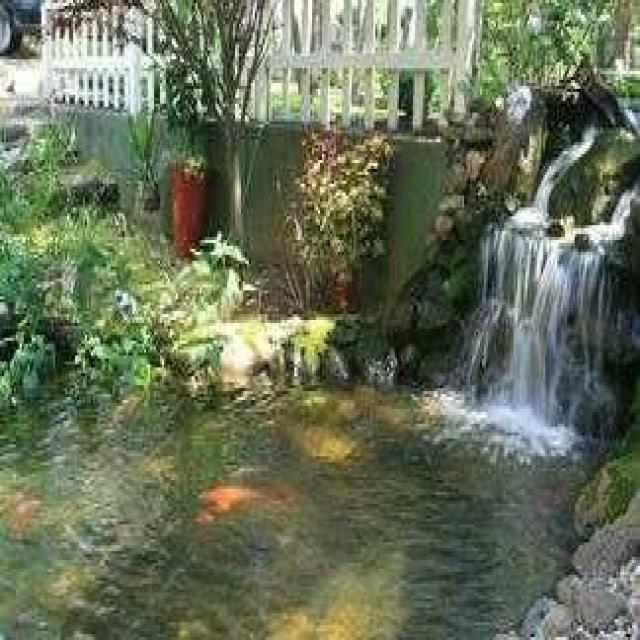Ponds: (2, 305, 633, 635)
